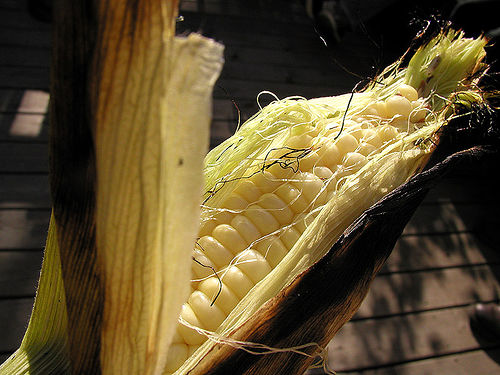corn: (20, 5, 493, 374)
